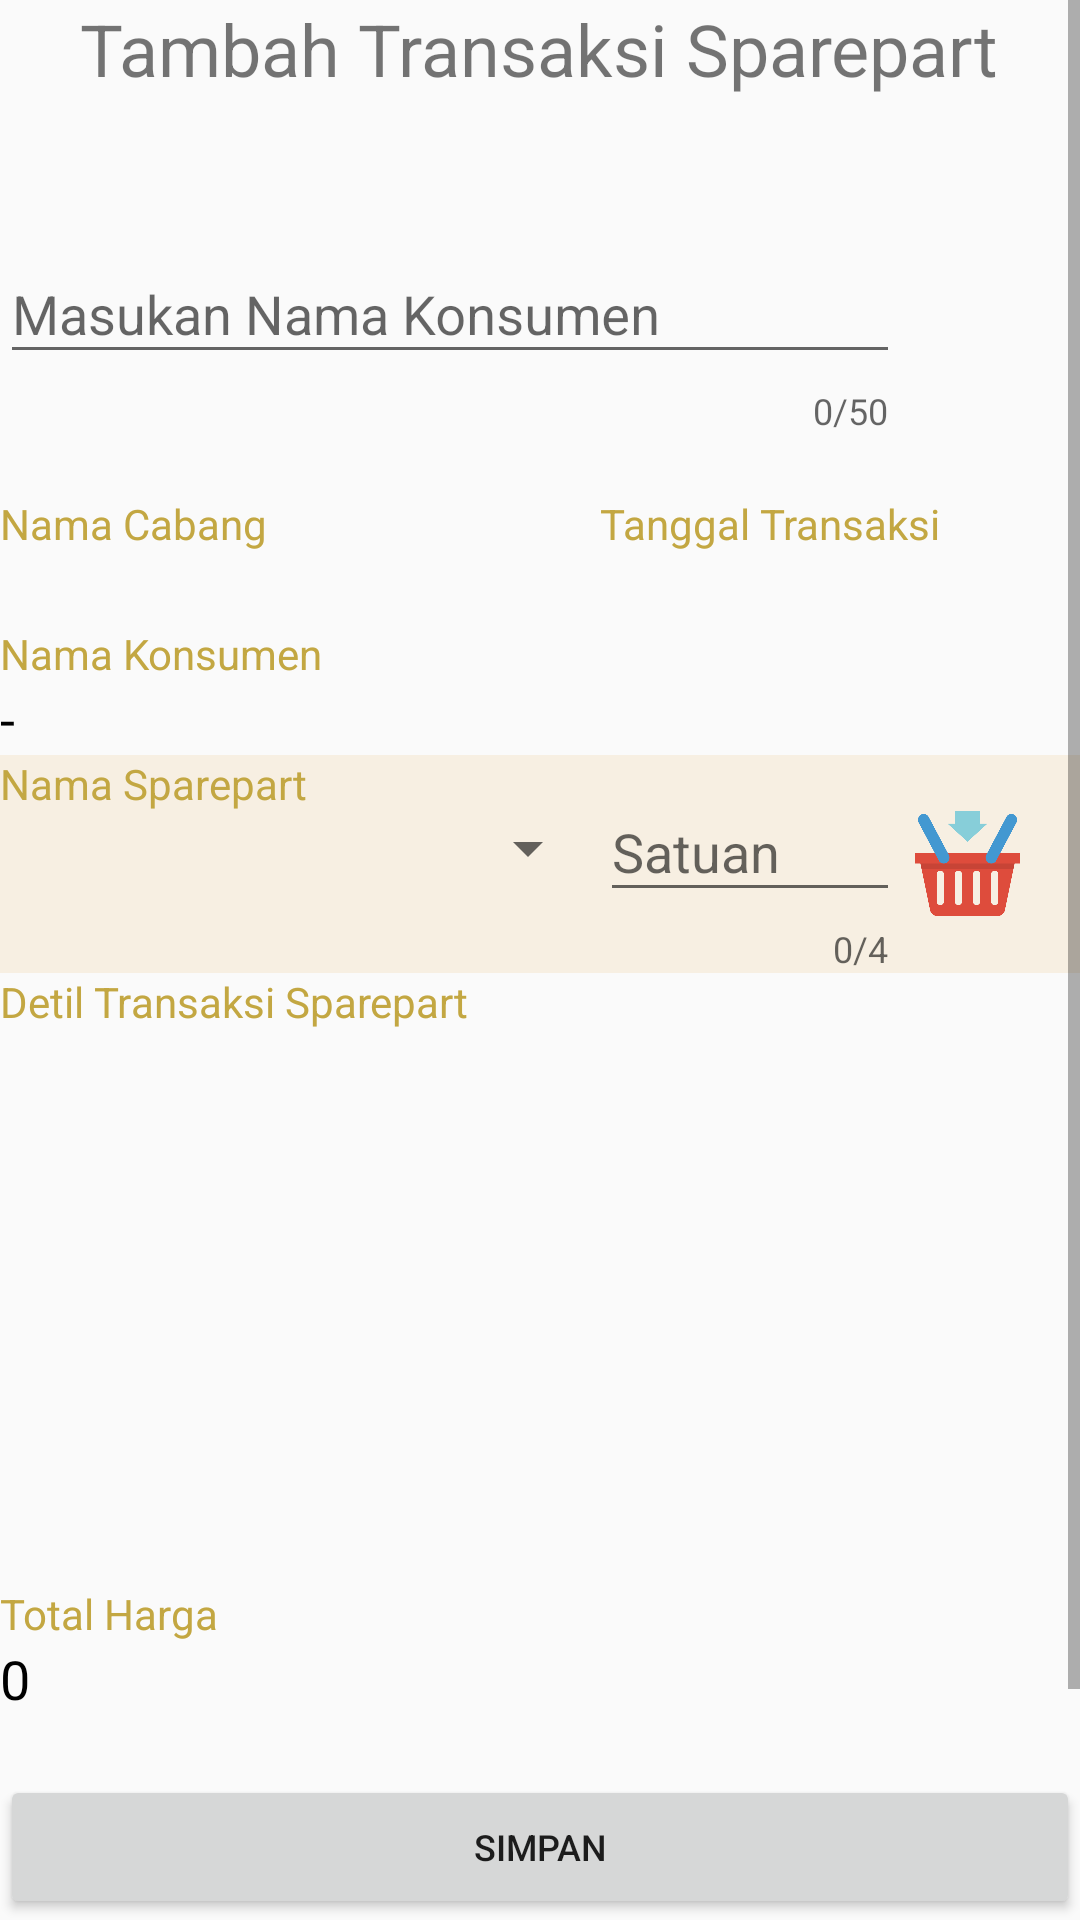

Named icons in this screenshot (1080px×1920px) and their centers, point (x, y):
add transaksi: point (967, 863)
